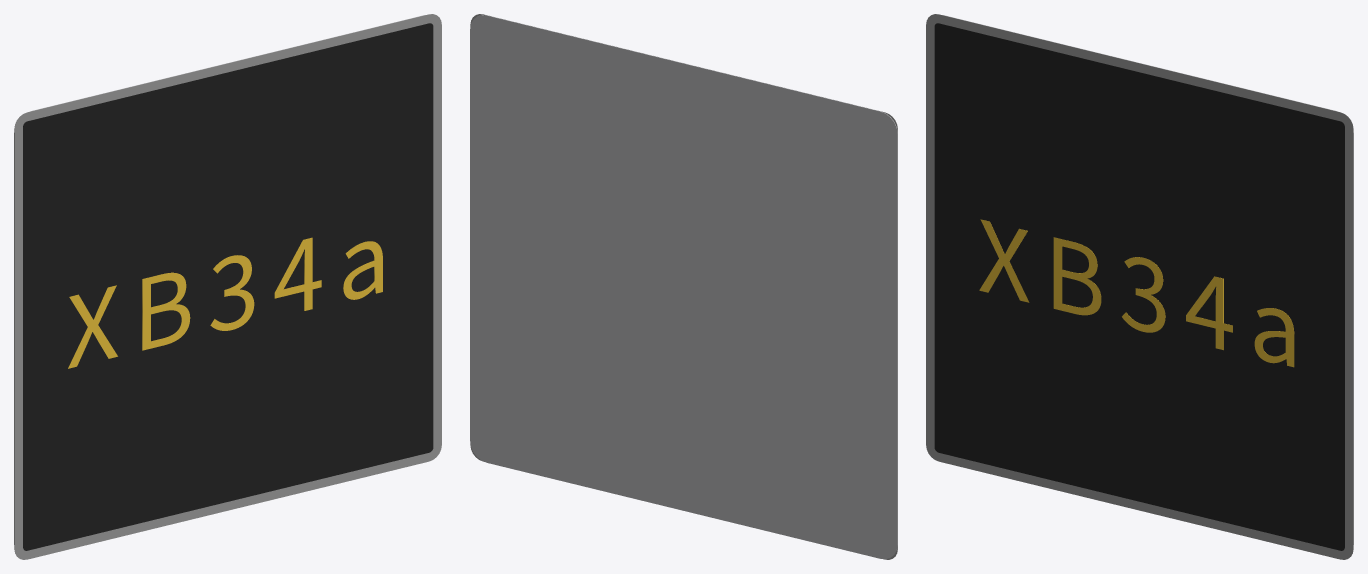
3 renders of one model, left to right at view 1: azimuth 30°, elevation 25°; view 2: azimuth 150°, elevation 25°; view 3: azimuth 330°, elevation 25°, orthographic.
Visible parts, largest first — view 1: XB34a_fond01, XB34a_cadre00, XB34a_txt02, XB34a_dos; view 2: XB34a_dos, XB34a_cadre00; view 3: XB34a_fond01, XB34a_cadre00, XB34a_txt02, XB34a_dos.
Boxes of the visible parts, x1,y1,x2,y2 form: XB34a_fond01: (23,23,433,550); XB34a_cadre00: (14,14,441,559); XB34a_txt02: (68,237,382,368); XB34a_dos: (14,15,424,544); XB34a_dos: (470,15,897,559); XB34a_cadre00: (470,14,897,559); XB34a_fond01: (934,23,1344,550); XB34a_cadre00: (926,14,1353,559); XB34a_txt02: (979,219,1294,367); XB34a_dos: (943,15,1353,544).
Size of the model in its own units: 1 by 1 by 0.0025.
